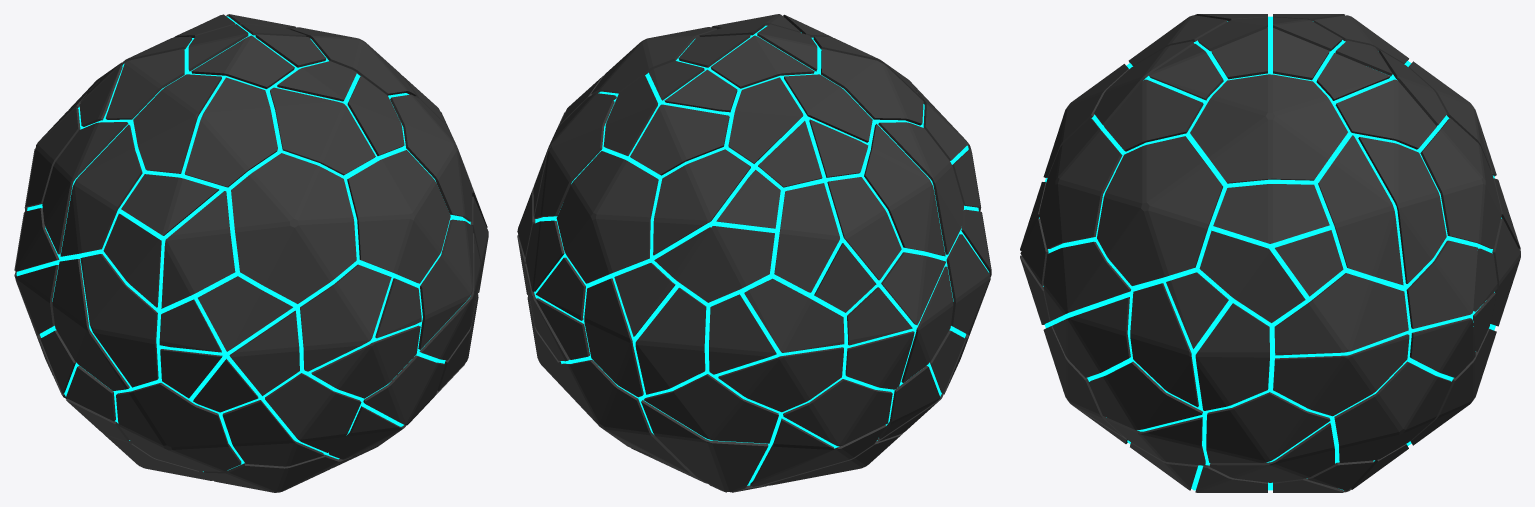
Rendered from DestroyedBoulder.fbx.
The picture shows the model from 3 angles, left to right: view 1: azimuth 30°, elevation 25°; view 2: azimuth 150°, elevation 25°; view 3: azimuth 270°, elevation 25°; orthographic projection. The views are drawn at different scales.
Visible parts, largest first — view 1: Separated.005, Inside, Separated.027, Separated.012, Separated.016, Separated.062, Separated.011, Separated.045, Separated.060, Separated.089, Separated.041, Separated.084 (+37 smaller); view 2: Inside, Separated.018, Separated.036, Separated.070, Separated.047, Separated.064, Separated.063, Separated.098, Separated.013, Separated.052, Separated.031, Separated.029 (+44 smaller); view 3: Inside, Separated.084, Separated.033, Separated.059, Separated.010, Separated.083, Separated.027, Separated.018, Separated.073, Separated.082, Separated.028, Separated.039 (+38 smaller).
Boxes of the visible parts, x1,y1,x2,y2 form: Separated.005: (231,153,356,303); Inside: (16,16,470,471); Separated.027: (347,150,450,283); Separated.012: (116,383,241,471); Separated.016: (184,77,277,187); Separated.062: (80,254,158,387); Separated.011: (300,264,391,371); Separated.045: (270,87,375,175); Separated.060: (60,124,142,256); Separated.089: (161,191,235,308); Separated.041: (133,74,221,173); Separated.084: (390,94,472,221); Inside: (534,25,989,485); Separated.018: (556,151,658,283); Separated.036: (654,226,774,302); Separated.070: (864,124,945,256); Separated.047: (653,149,750,255); Separated.064: (635,287,706,394); Separated.063: (644,374,778,443); Separated.098: (774,183,839,292); Separated.013: (560,360,700,480); Separated.052: (718,347,843,412); Separated.031: (641,400,768,492); Separated.029: (744,278,844,352); Inside: (1039,16,1501,490); Separated.084: (1097,136,1222,285); Separated.033: (1190,74,1347,183); Separated.059: (1274,273,1408,355); Separated.010: (1318,135,1403,285); Separated.083: (1334,361,1452,462); Separated.027: (1039,118,1122,248); Separated.018: (1420,118,1501,248); Separated.073: (1273,334,1409,416); Separated.082: (1358,137,1446,283); Separated.028: (1206,392,1330,462); Separated.039: (1195,303,1269,410).
Size of the model in its own units: 1.9 by 1.99 by 1.99.
